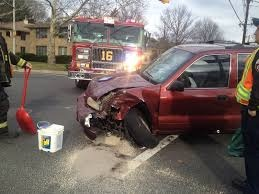Smashed: (82, 83, 160, 136)
